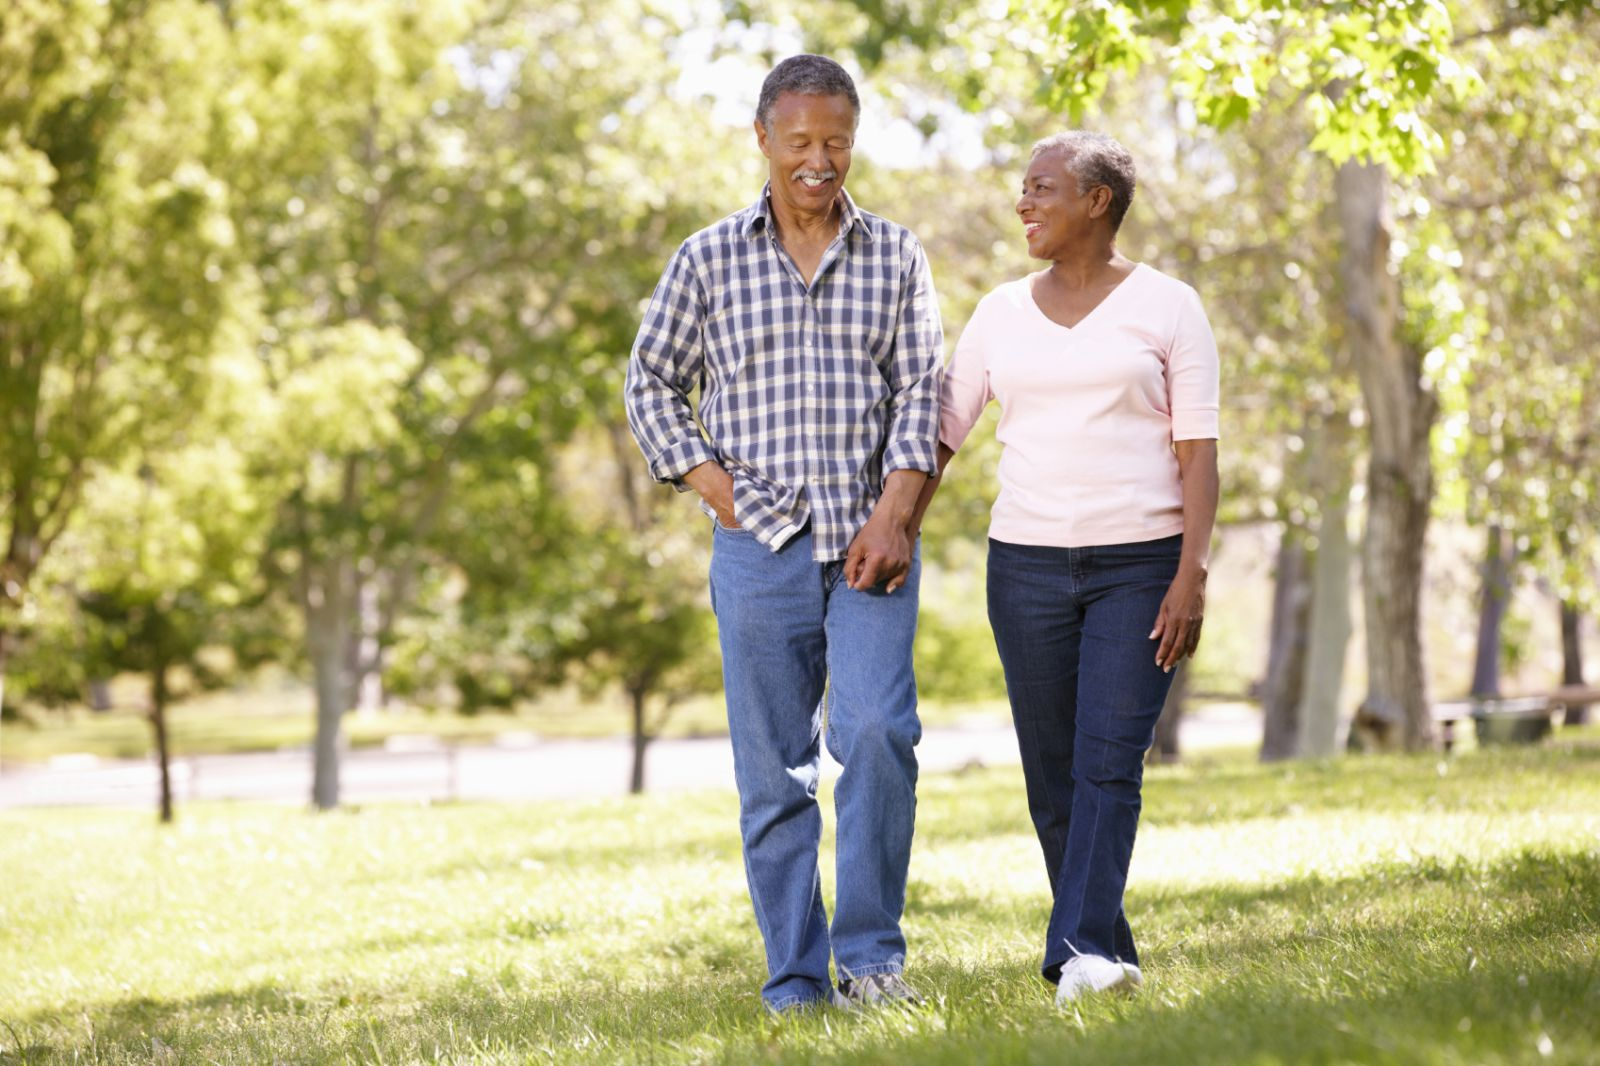feet: (739, 921, 926, 1030), (1019, 899, 1155, 1016)
